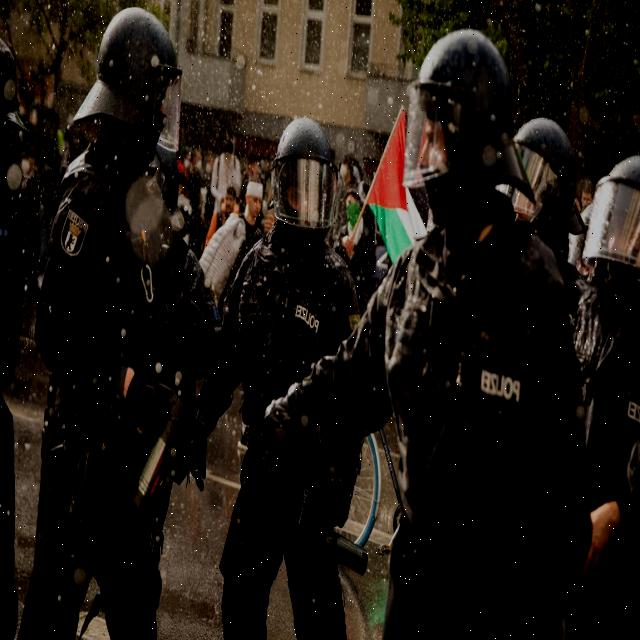police: (264, 8, 590, 640), (195, 87, 373, 640), (42, 8, 192, 640), (574, 115, 640, 640)
